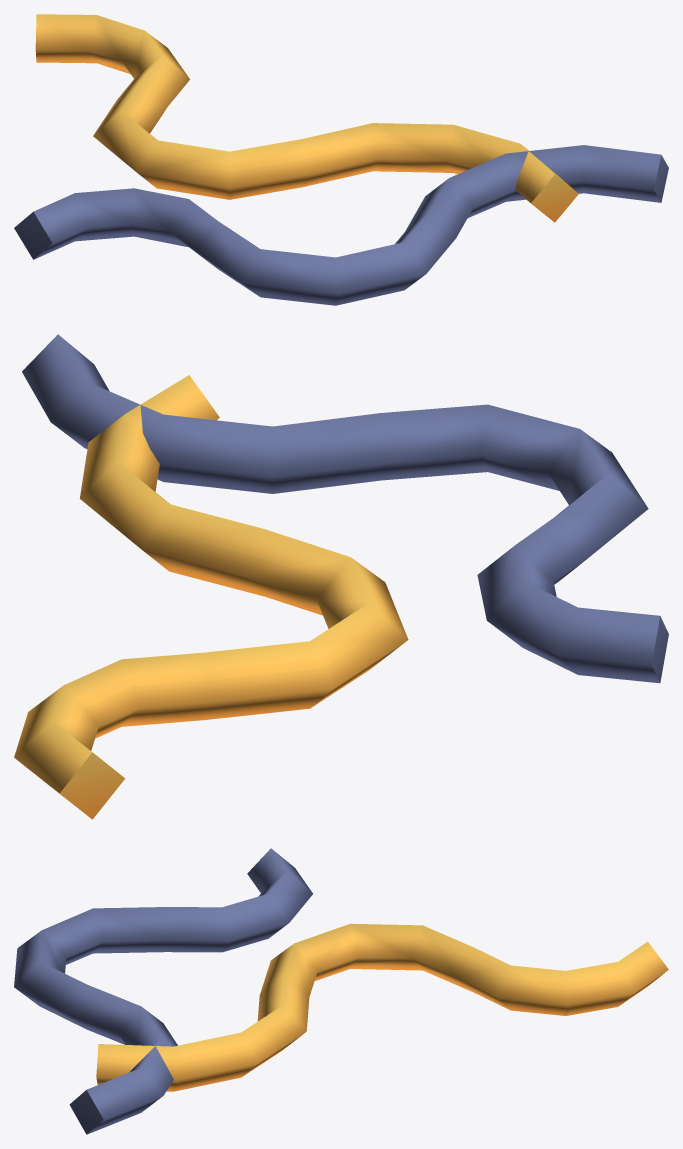
Rendered from space-cables.glb.
The picture shows the model from 3 angles, top to bottom: view 1: azimuth 30°, elevation 25°; view 2: azimuth 150°, elevation 25°; view 3: azimuth 270°, elevation 25°; orthographic projection. The views are drawn at different scales.
Parts seen in each view (by area): view 1: cables; view 2: cables; view 3: cables.
Part boxes in pixels (x1,y1,x2,y2): cables: (14,14,668,305); cables: (14,334,668,819); cables: (14,848,668,1134).
Size of the model in its own units: 1.91 by 0.1599 by 2.1.
Materials: 1 (1 with a texture image).
